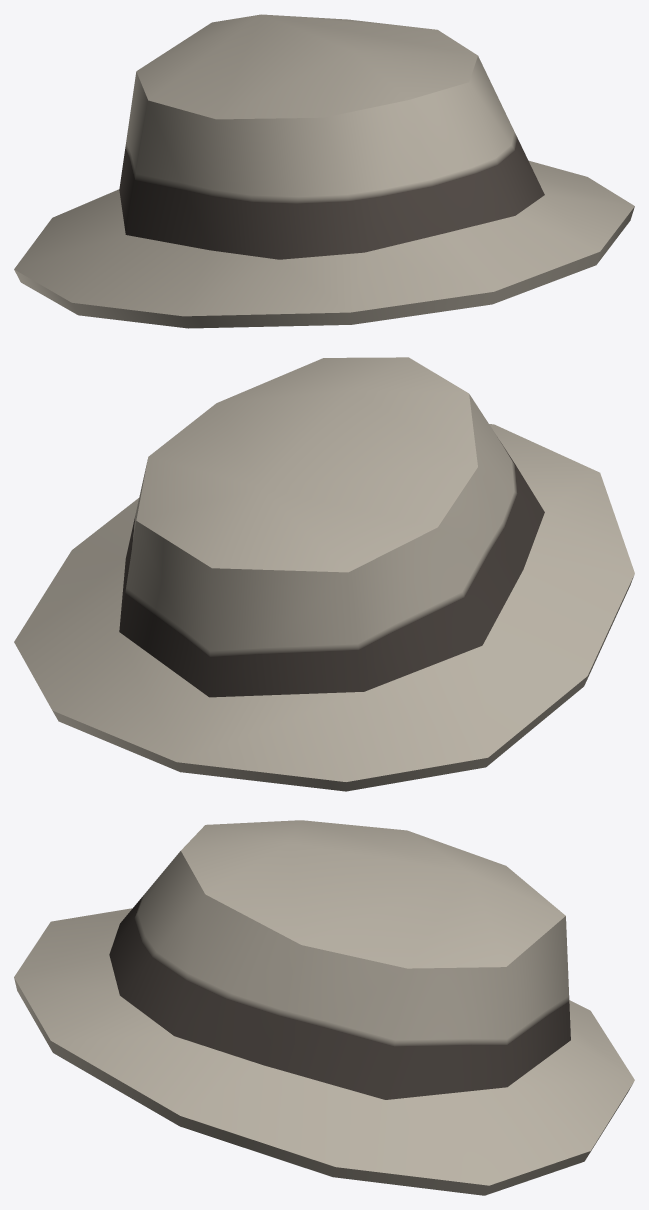
File: hat_boater.fbx
The picture shows the model from 3 angles, top to bottom: view 1: azimuth 30°, elevation 25°; view 2: azimuth 150°, elevation 25°; view 3: azimuth 270°, elevation 25°; orthographic projection. The views are drawn at different scales.
Parts seen in each view (by area): view 1: hat_boater; view 2: hat_boater; view 3: hat_boater.
Boxes of the visible parts, x1,y1,x2,y2 form: hat_boater: (14,14,634,328); hat_boater: (14,357,634,791); hat_boater: (14,820,634,1195).
Size of the model in its own units: 1.09 by 0.5179 by 1.17.
